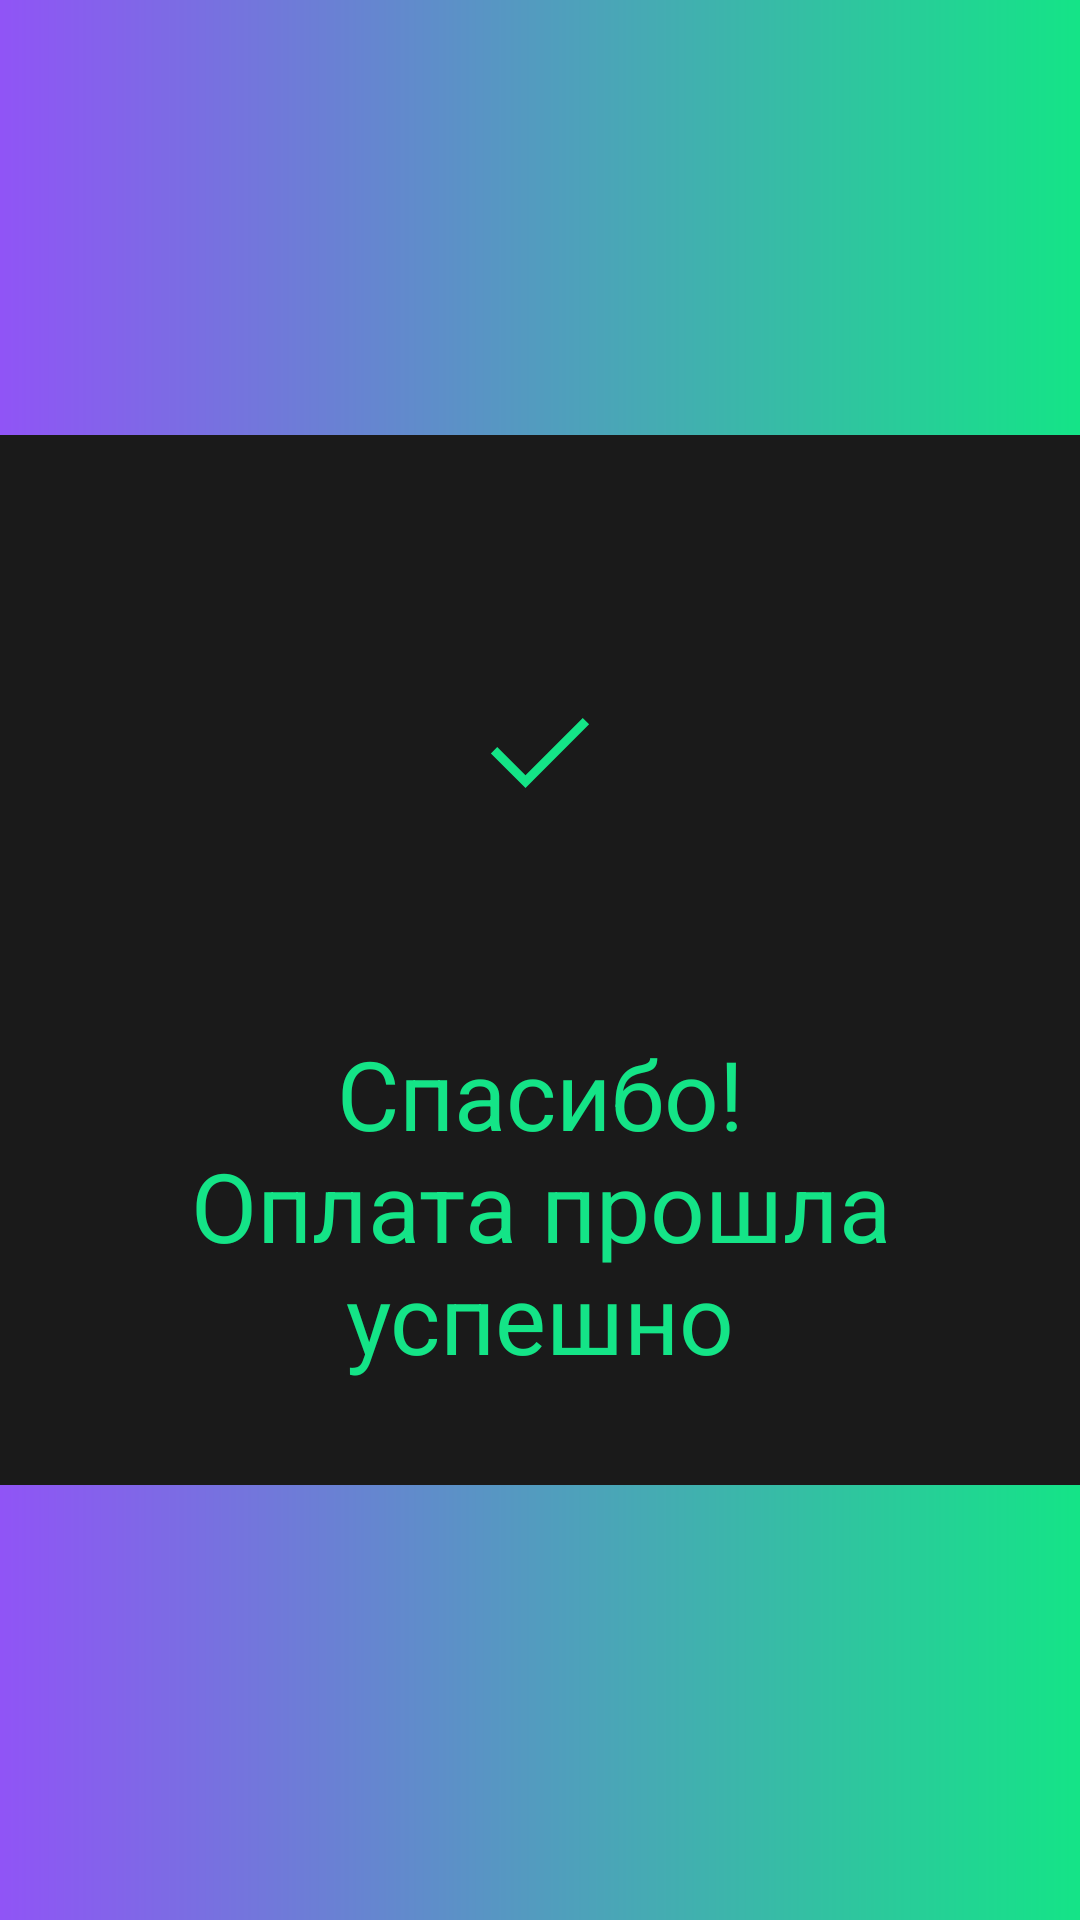

Named icons in this screenshot (1080 × 1920) and their centers, (x=x, y=y):
success: (x=540, y=753)
